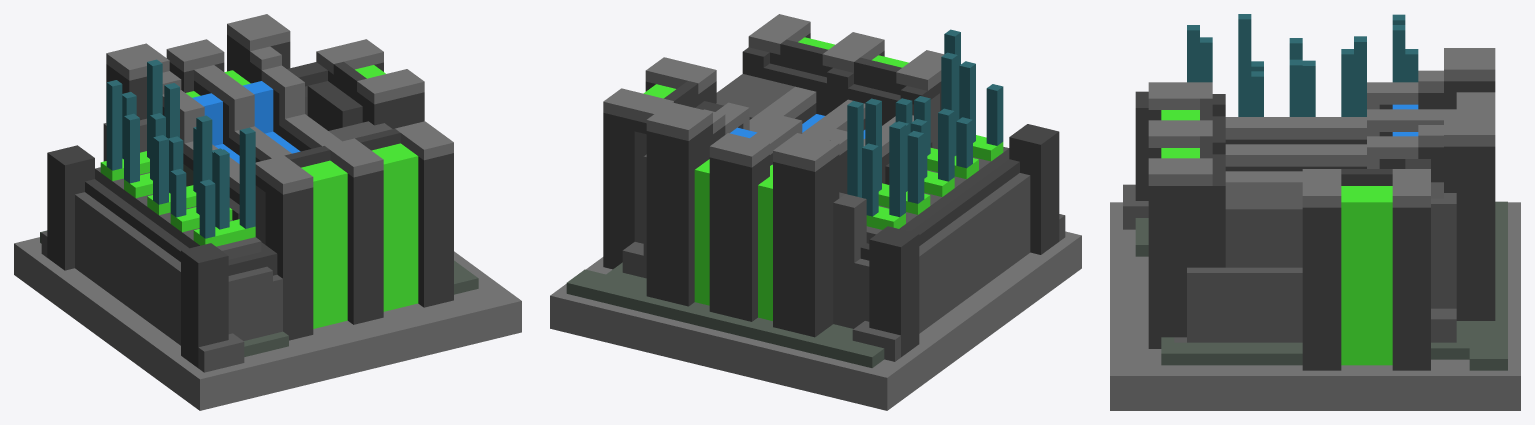
File: _g_park_2.obj
3 views of the same model, side by side, from view 1: azimuth 30°, elevation 25°; view 2: azimuth 150°, elevation 25°; view 3: azimuth 270°, elevation 25° (orthographic). The views are drawn at different scales.
Size of the model in its own units: 3.2 by 2.2 by 3.2.
